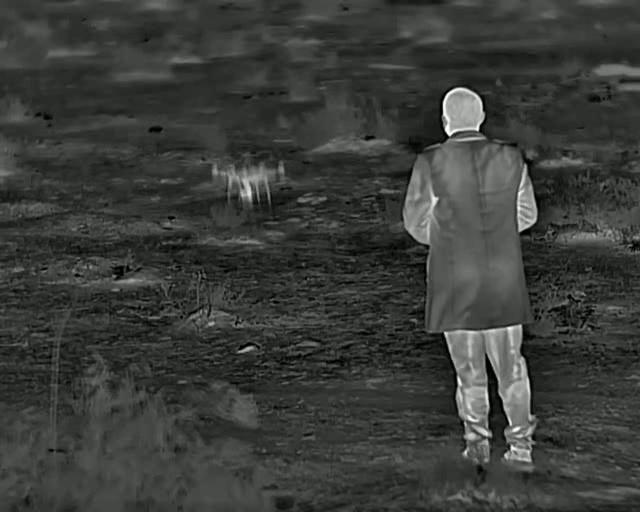DJI-Phantom: (212, 161, 289, 205)
